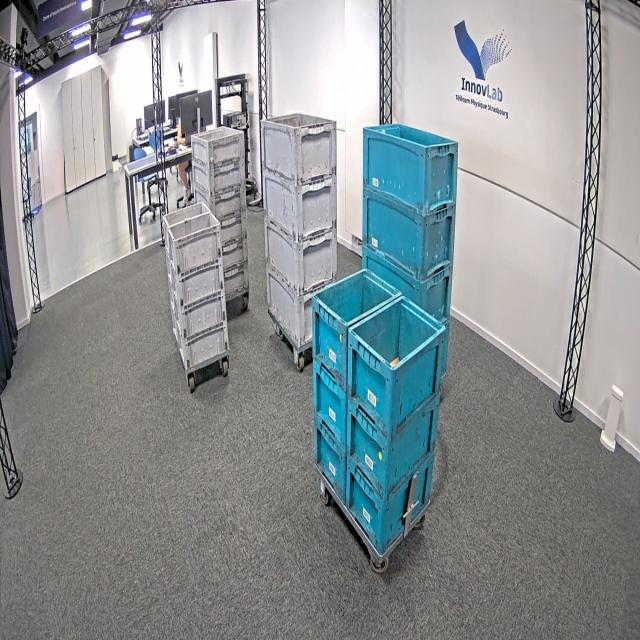Box3G: (192, 127, 245, 167), (193, 183, 246, 219), (191, 160, 245, 194), (221, 264, 251, 305), (218, 209, 249, 245), (220, 239, 247, 272)
Box4G: (267, 218, 339, 297), (262, 169, 336, 242), (260, 115, 336, 185), (266, 266, 318, 349)
Box8G: (164, 211, 222, 277), (173, 288, 227, 342), (168, 256, 223, 309), (175, 319, 231, 369)
BoxB4: (360, 186, 457, 282), (364, 125, 459, 218), (364, 245, 454, 325)
BoxB8: (352, 290, 444, 434), (350, 397, 439, 499), (346, 456, 414, 556), (312, 270, 353, 398), (312, 359, 353, 454), (316, 413, 355, 512)
